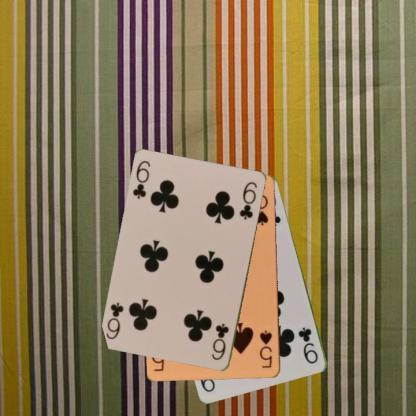5s: (257, 328, 273, 369)
6c: (130, 158, 152, 200), (209, 321, 231, 362)
9c: (296, 324, 319, 366)
